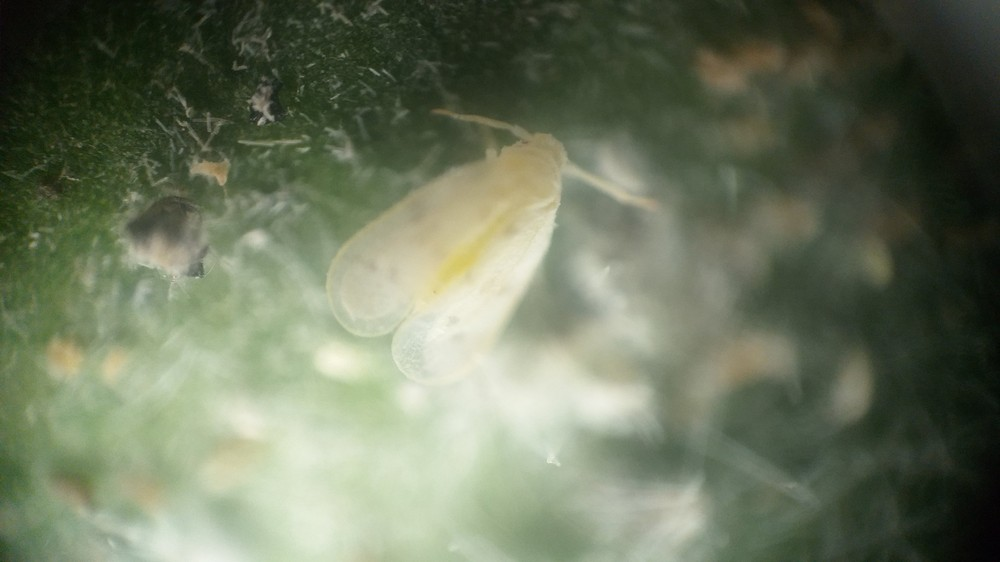Mosca Blanca: (313, 97, 681, 412)
